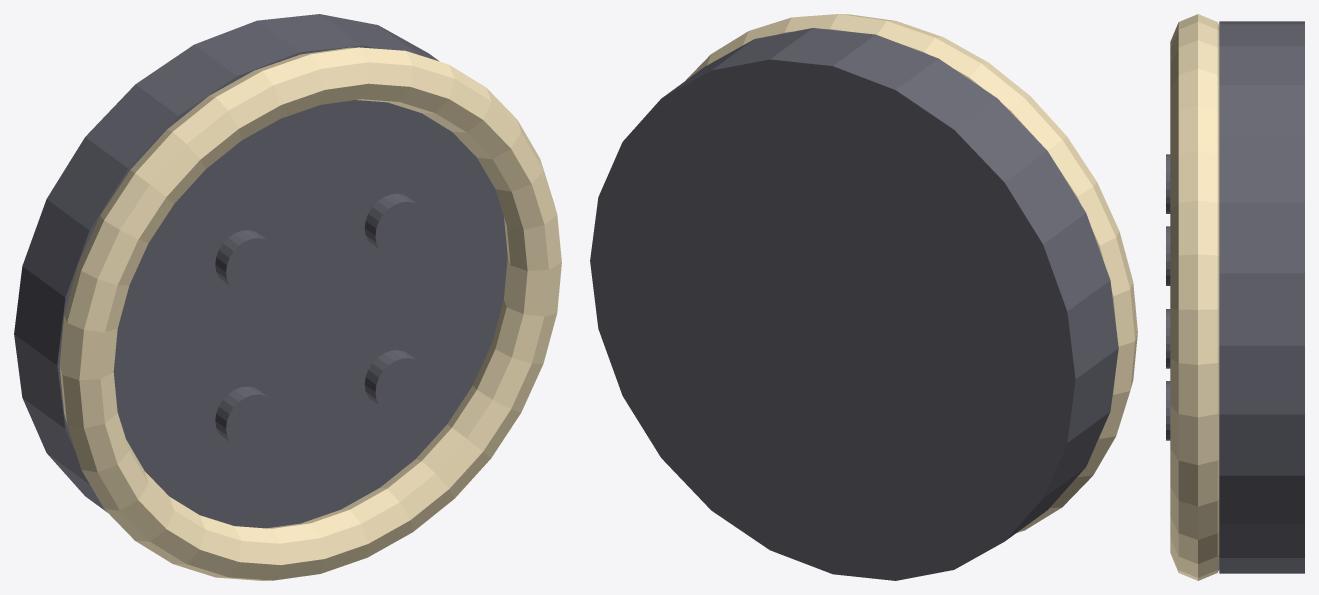
File: ACC_Button_Black.glb
3 views of the same model, side by side, from view 1: azimuth 30°, elevation 25°; view 2: azimuth 150°, elevation 25°; view 3: azimuth 270°, elevation 25° (orthographic).
Parts seen in each view (by area): view 1: ACC_Button_Black_1, ACC_Button_Black_2, ACC_Button_Black_6, ACC_Button_Black_3, ACC_Button_Black_4, ACC_Button_Black_5; view 2: ACC_Button_Black_1, ACC_Button_Black_2; view 3: ACC_Button_Black_1, ACC_Button_Black_2, ACC_Button_Black_3, ACC_Button_Black_4, ACC_Button_Black_5, ACC_Button_Black_6.
Part boxes in pixels (<box>): ACC_Button_Black_1: <box>14,14,507,528</box>; ACC_Button_Black_2: <box>59,47,561,580</box>; ACC_Button_Black_6: <box>364,193,427,257</box>; ACC_Button_Black_3: <box>215,386,278,450</box>; ACC_Button_Black_4: <box>215,230,278,293</box>; ACC_Button_Black_5: <box>364,350,427,413</box>; ACC_Button_Black_1: <box>590,28,1118,580</box>; ACC_Button_Black_2: <box>685,14,1137,532</box>; ACC_Button_Black_1: <box>1219,21,1304,573</box>; ACC_Button_Black_2: <box>1170,14,1219,580</box>; ACC_Button_Black_3: <box>1166,309,1170,368</box>; ACC_Button_Black_4: <box>1166,154,1170,213</box>; ACC_Button_Black_5: <box>1166,381,1170,440</box>; ACC_Button_Black_6: <box>1166,226,1170,285</box>.
Bounding box in the file's own units: 0.0266 × 0.0266 × 0.0065.
